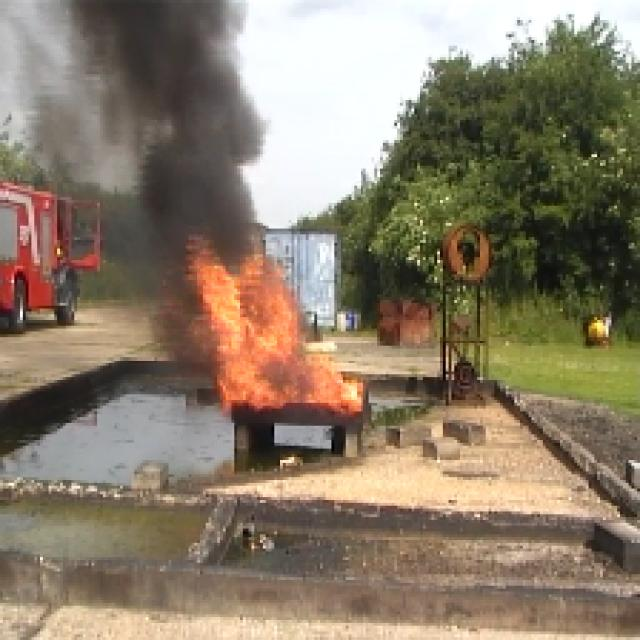smoke: (19, 6, 254, 238), (199, 257, 312, 406)
